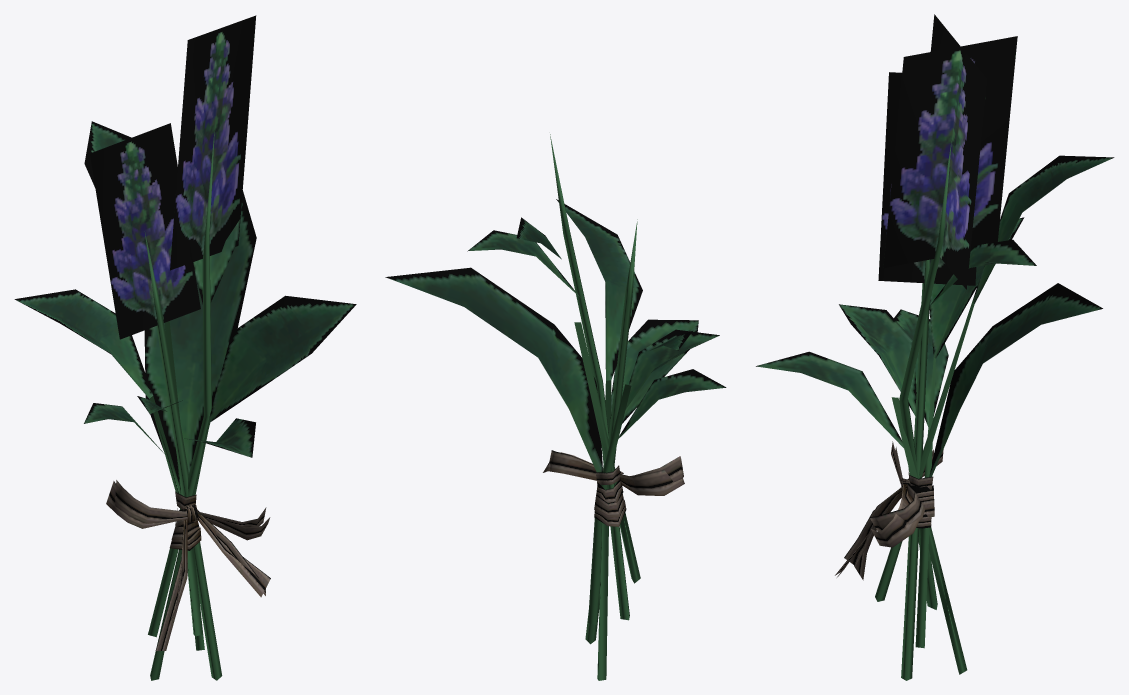
The model's file is Obj_Get_FlowerChemical_C_01.glb.
3 views of the same model, side by side, from view 1: azimuth 30°, elevation 25°; view 2: azimuth 150°, elevation 25°; view 3: azimuth 270°, elevation 25° (orthographic). The views are drawn at different scales.
Parts seen in each view (by area): view 1: Obj_Get_FlowerChemical_C_01; view 2: Obj_Get_FlowerChemical_C_01; view 3: Obj_Get_FlowerChemical_C_01.
Boxes of the visible parts, <box> form: Obj_Get_FlowerChemical_C_01: <box>14,15,356,680</box>; Obj_Get_FlowerChemical_C_01: <box>385,134,726,680</box>; Obj_Get_FlowerChemical_C_01: <box>756,14,1114,680</box>.
Size of the model in its own units: 0.6355 by 1.5 by 0.7312.
Materials: 2 (2 with a texture image).
